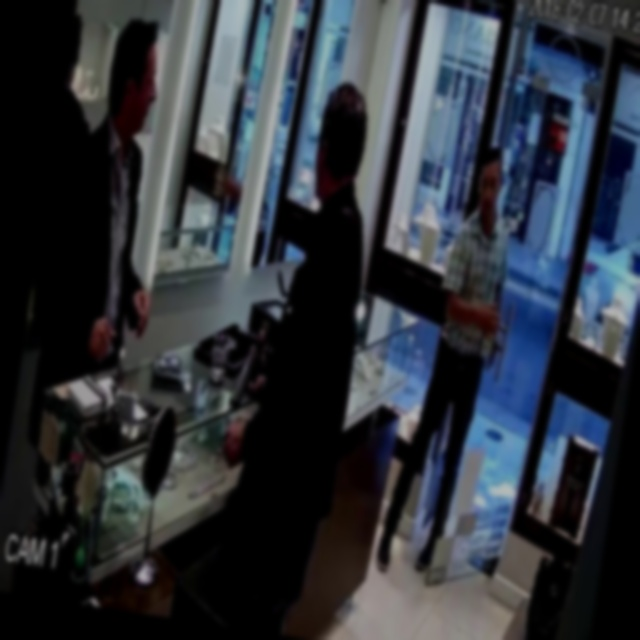gun: (215, 310, 283, 440)
